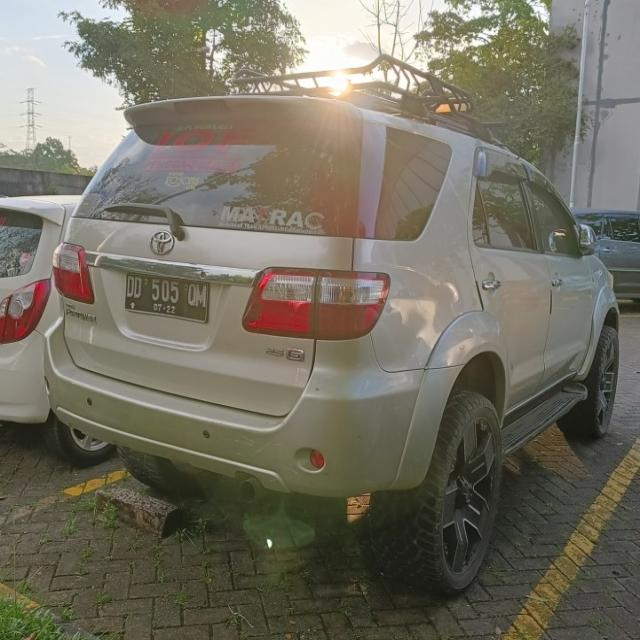plates: (121, 266, 210, 316)
